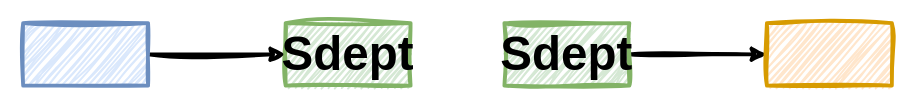
This 915x109 diagram has some shape labels left out. Here are the shapes that lost their labels. From the top down, the centre of each, then its label:
At point 85,54: "Sno".
At point 828,54: "Sloc".
